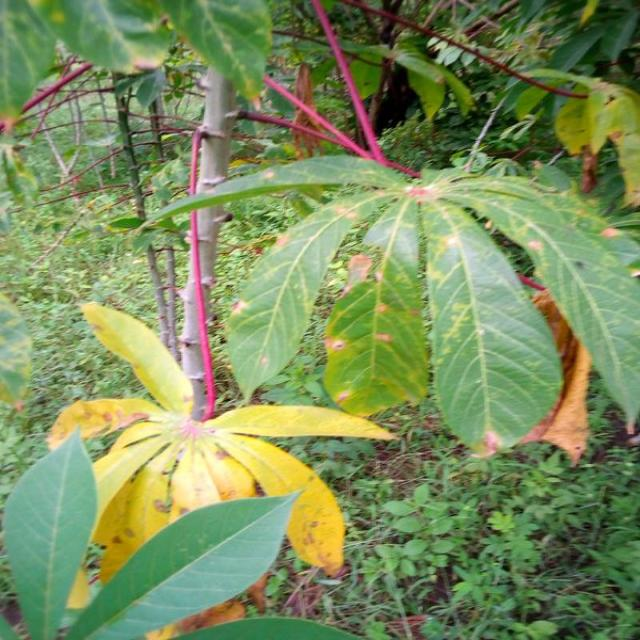cassava leaf: (46, 298, 397, 600), (421, 195, 564, 456), (64, 485, 306, 638), (225, 202, 354, 402), (2, 424, 98, 638)
